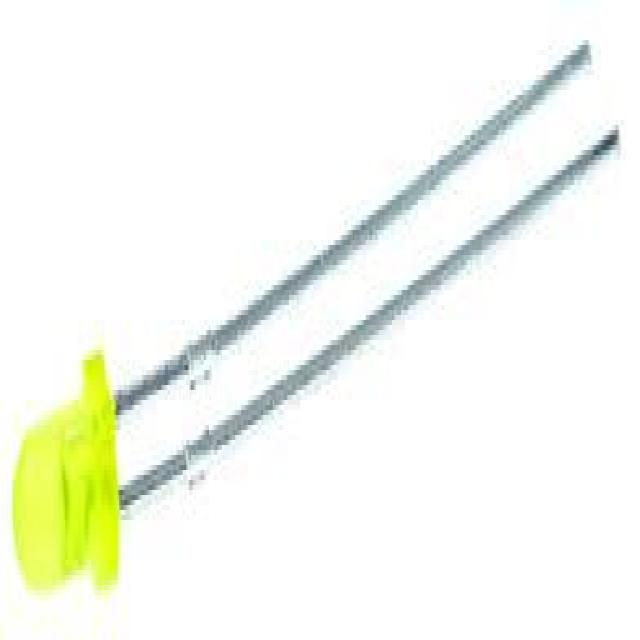Led: (15, 42, 619, 588)
